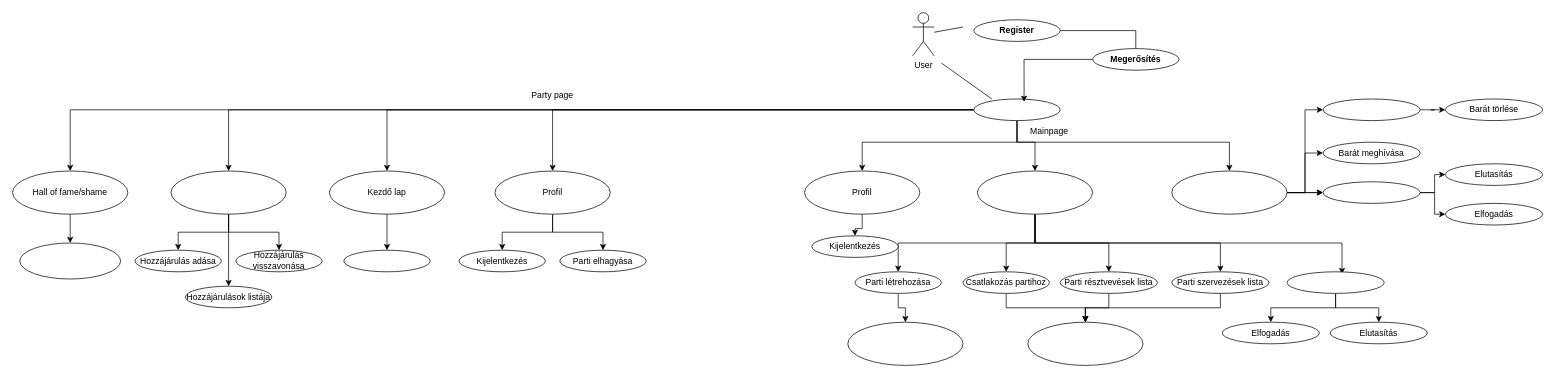
This 1555x378 diagram has some shape labels left out. The shapes that lost their labels are listed below. From the top down, each one's centre as x and y in pixels, then its label:
At (x=1016, y=109): "Login".
At (x=1371, y=109): "Barát lista".
At (x=228, y=192): "Hozzájárulás lap".
At (x=1035, y=192): "Parties".
At (x=1229, y=192): "Friends".
At (x=1371, y=192): "Barát meghívás lista".
At (x=70, y=260): "Ember/hozzájárulások listája".
At (x=386, y=260): "általános infók".
At (x=1335, y=282): "Parti meghívások lista".
At (x=905, y=343): "Parti létrehozó oldal".
At (x=1085, y=343): "Parti oldal megtekintése".
